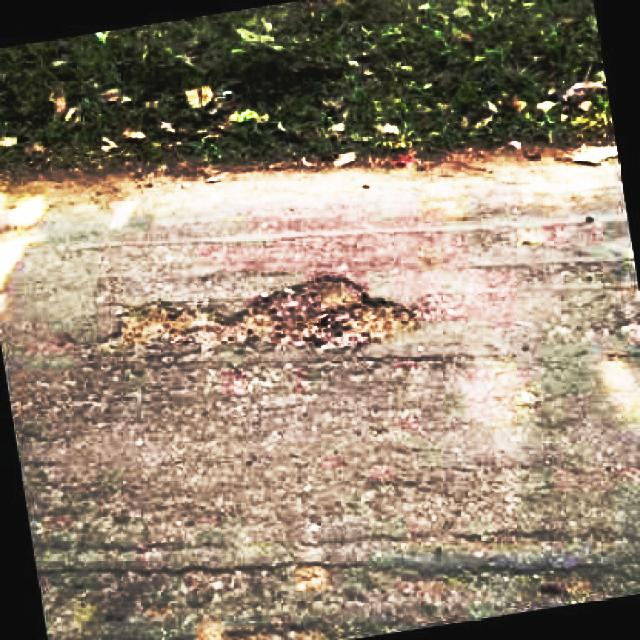pothole: (227, 272, 418, 357)
